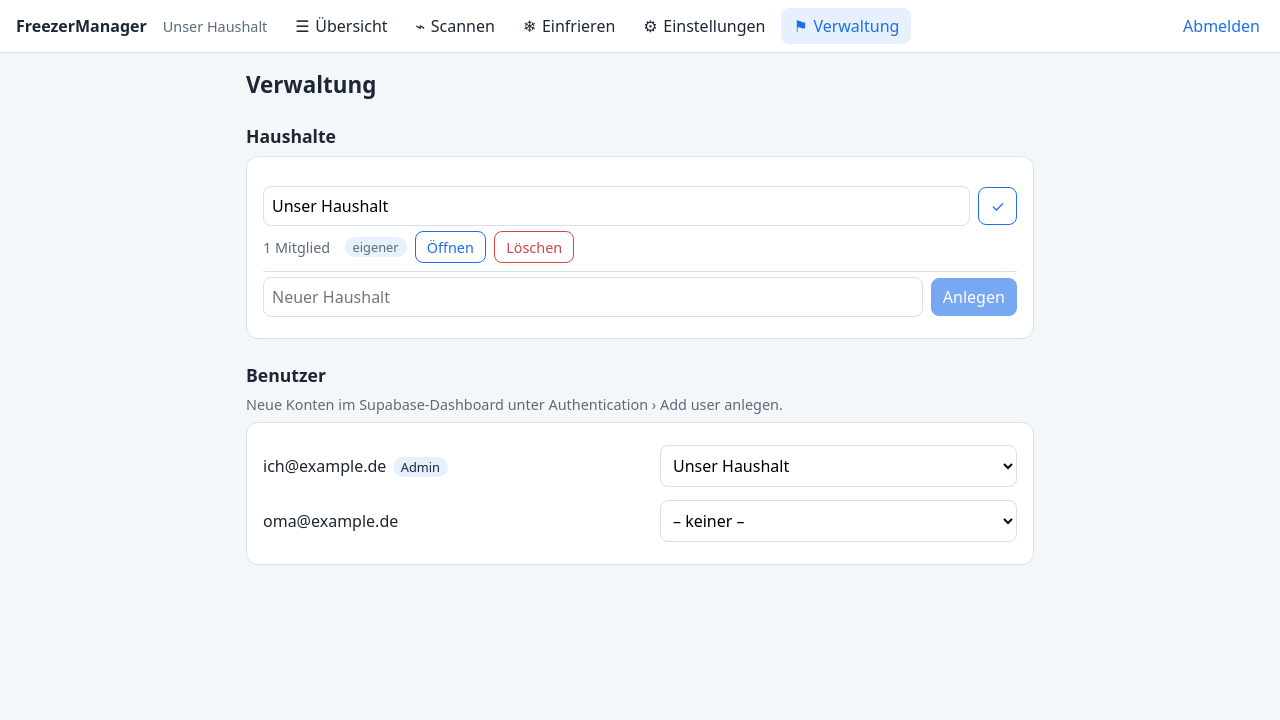
Test: shows the database message when deleting a household with members
Click the button with aria-label "Unser Haushalt löschen": {"x": 534, "y": 247} x1=494 y1=231 x2=574 y2=263
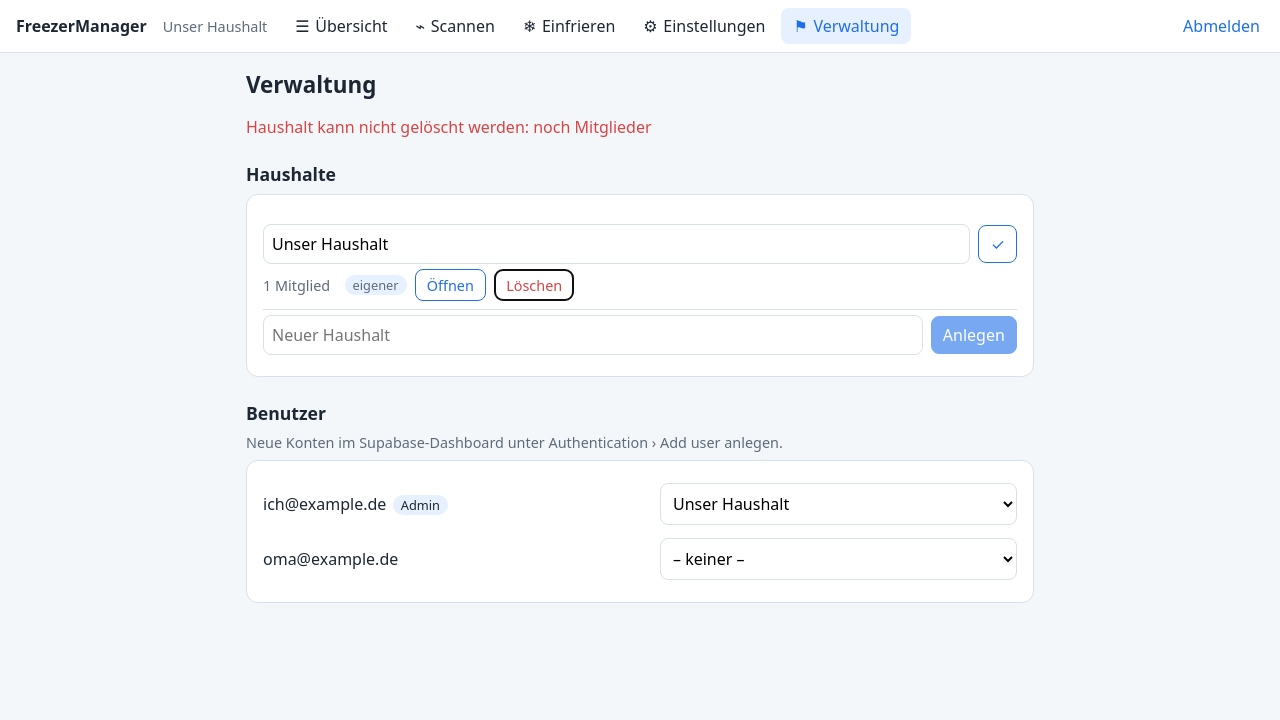
Expected: the text "Haushalt kann nicht gelöscht werden: noch Mitglieder" is shown, x1=246 y1=116 x2=652 y2=138
